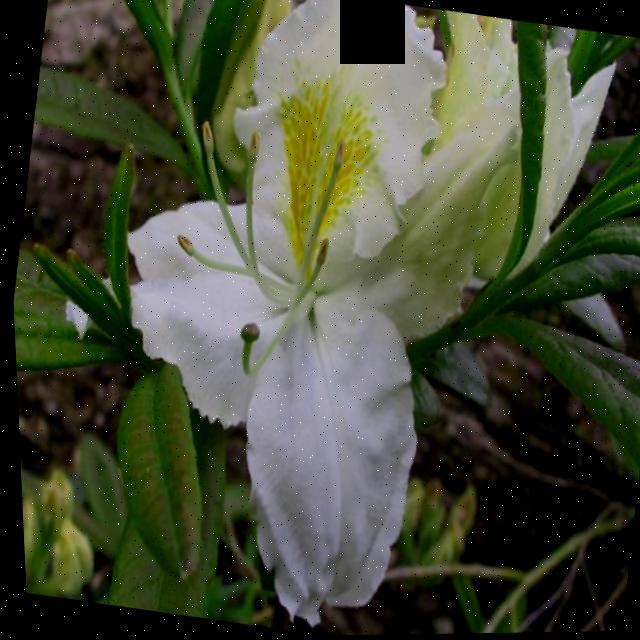azalea: (49, 0, 583, 536)
